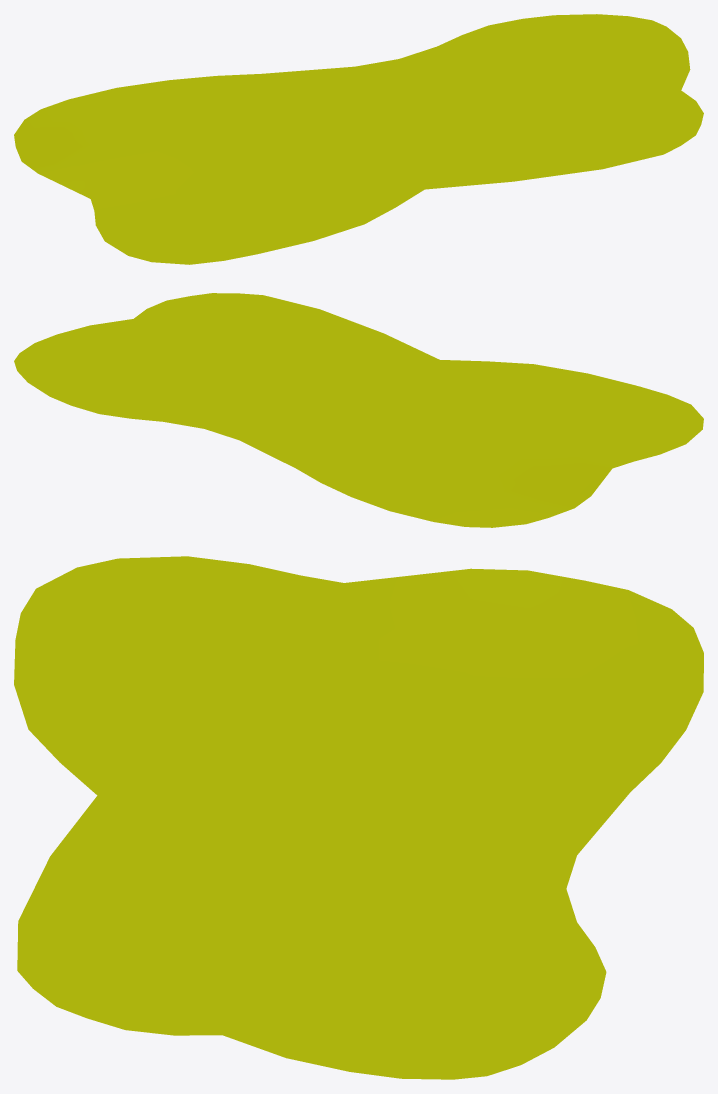
Rendered from finalinnerground.fbx.
3 renders of one model, top to bottom at view 1: azimuth 30°, elevation 25°; view 2: azimuth 150°, elevation 25°; view 3: azimuth 270°, elevation 25°, orthographic. The views are drawn at different scales.
Parts seen in each view (by area): view 1: polySurface15; view 2: polySurface15; view 3: polySurface15.
Boxes of the visible parts, x1,y1,x2,y2 form: polySurface15: (14, 14, 703, 264); polySurface15: (14, 293, 703, 527); polySurface15: (14, 556, 703, 1079).
Size of the model in its own units: 19.86 by 0.0438 by 11.06.
